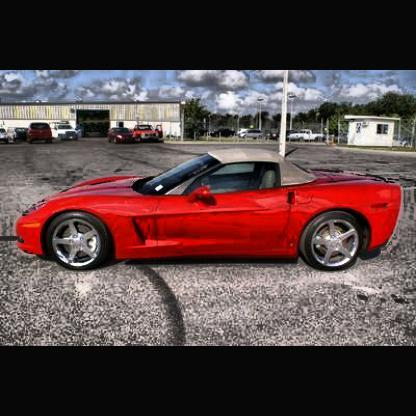Chevrolet Corvette Convertible 2012: (17, 147, 403, 272)
